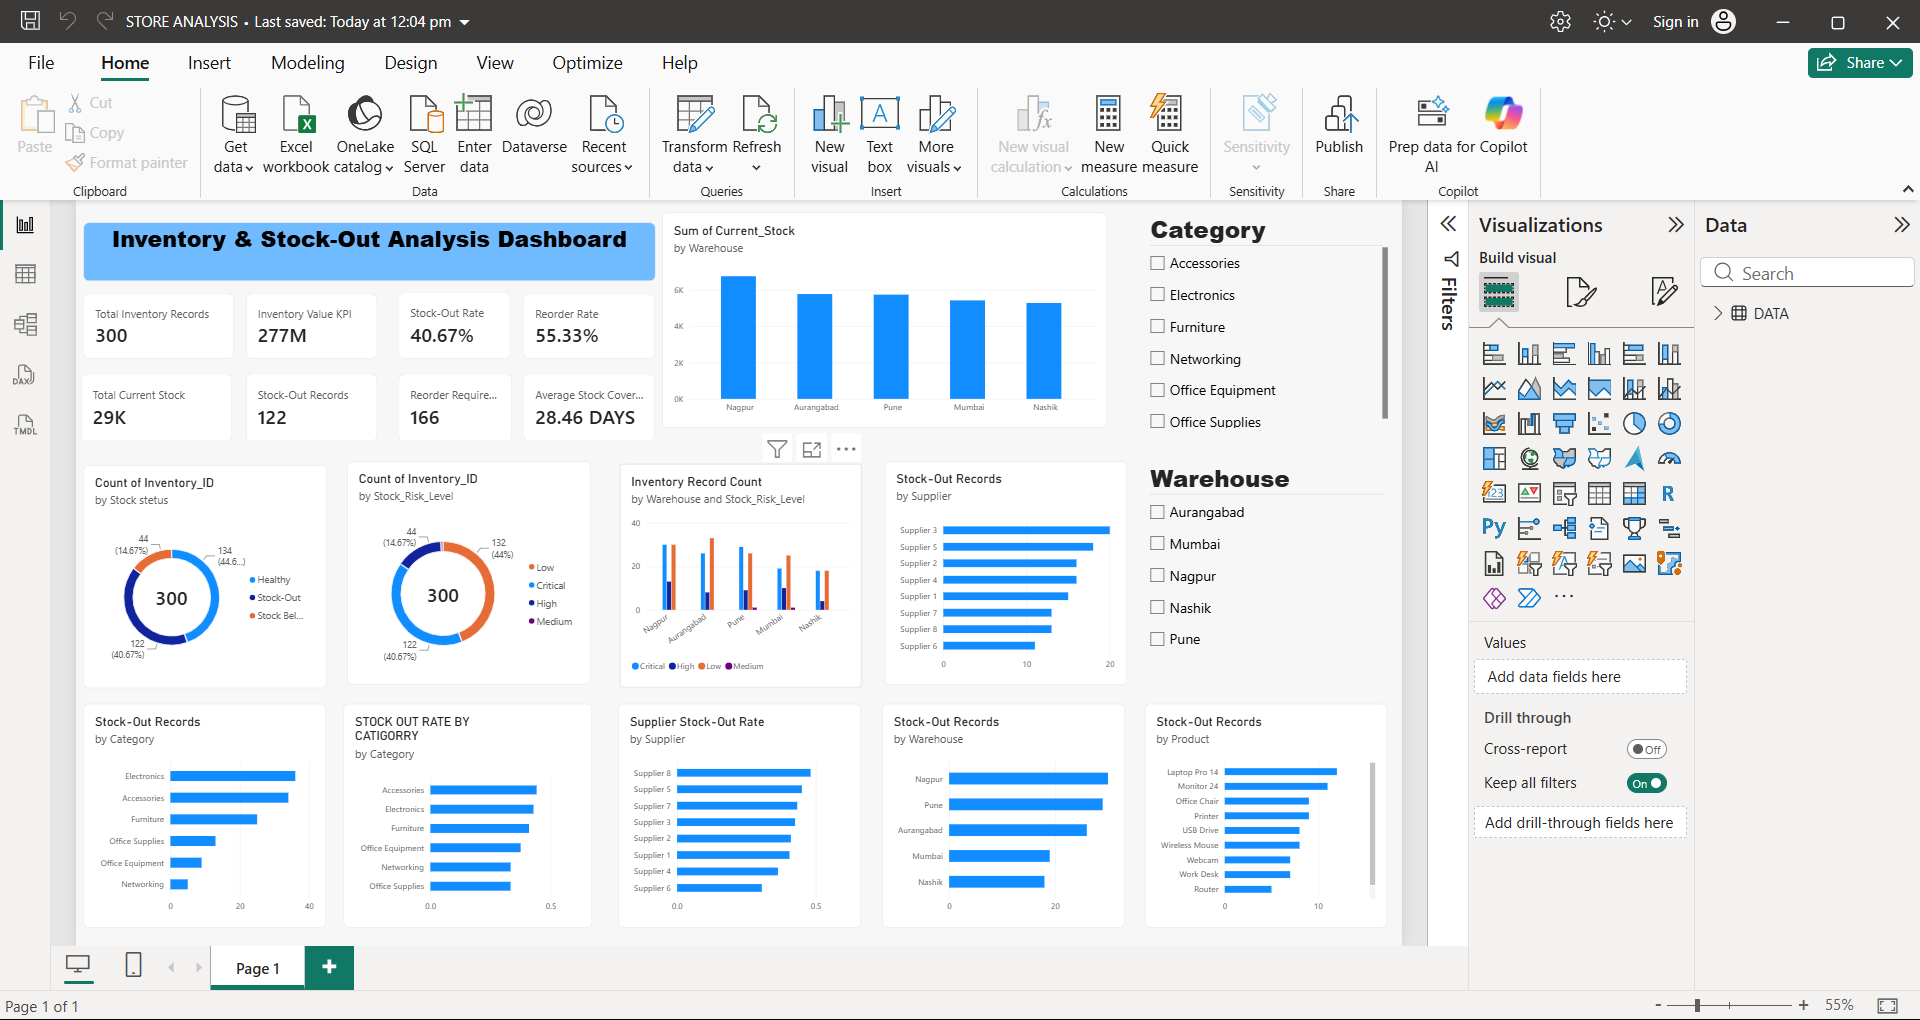

The dashboard page shown, as its layout file describes it:
{"tool":"powerbi","page":{"name":"Page 1","canvas":[1920,1080],"ordinal":0},"visuals":[{"type":"cardVisual","fields":{"Data":["DATA.Total Inventory Records"]},"box":[10,136,218,94],"z":0},{"type":"cardVisual","fields":{"Data":["DATA.Total Current Stock"]},"box":[8,252,218,98],"z":1000},{"type":"cardVisual","fields":{"Data":["DATA.Inventory Value KPI"]},"box":[246,136,190,94],"z":2000},{"type":"cardVisual","fields":{"Data":["DATA.Stock-Out Records"]},"box":[246,252,190,98],"z":3000},{"type":"cardVisual","fields":{"Data":["DATA.Stock-Out Rate"]},"box":[466,134,162,96],"z":4000},{"type":"cardVisual","fields":{"Data":["DATA.Reorder Required KPI"]},"box":[466,252,164,98],"z":5000},{"type":"cardVisual","fields":{"Data":["DATA.Reorder Rate"]},"box":[648,136,190,94],"z":6000},{"type":"cardVisual","fields":{"Data":["DATA.Average Stock Coverage Days"]},"box":[648,252,190,98],"z":7000},{"type":"clusteredBarChart","fields":{"Category":["DATA.Category"],"Y":["DATA.Stock-Out Records"]},"box":[10,730,350.9,323.6],"z":8000},{"type":"clusteredBarChart","fields":{"Category":["DATA.Category"],"Y":["DATA.STOCK OUT RATE BY CATIGORRY"]},"box":[387.5,730,360,324],"z":9000},{"type":"clusteredBarChart","fields":{"Category":["DATA.Warehouse"],"Y":["DATA.Stock-Out Records"]},"box":[1168,730,351,324],"z":10000},{"type":"clusteredBarChart","fields":{"Category":["DATA.Product"],"Y":["DATA.Stock-Out Records"]},"box":[1548,730,351,324],"z":11000},{"type":"donutChart","fields":{"Category":["DATA.Stock stetus"],"Y":["CountNonNull(DATA.Inventory_ID)"]},"box":[10,384,351.7,323.3],"z":12000},{"type":"columnChart","fields":{"Category":["DATA.Warehouse"],"Y":["Sum(DATA.Current_Stock)"]},"box":[848,18,644,312],"z":13000},{"type":"clusteredBarChart","fields":{"Category":["DATA.Supplier"],"Y":["DATA.Stock-Out Records"]},"box":[1170,378,350,324],"z":14000},{"type":"clusteredBarChart","fields":{"Category":["DATA.Supplier"],"Y":["DATA.Supplier Stock-Out Rate"]},"box":[786,730,350.9,323.6],"z":15000},{"type":"donutChart","fields":{"Category":["DATA.Stock_Risk_Level"],"Y":["CountNonNull(DATA.Inventory_ID)"]},"box":[392,378,351.7,323.3],"z":15001},{"type":"clusteredColumnChart","fields":{"Category":["DATA.Warehouse"],"Series":["DATA.Stock_Risk_Level"],"Y":["DATA.Inventory Record Count"]},"box":[788,382,350.9,323.6],"z":15002},{"type":"slicer","fields":{"Values":["DATA.Warehouse"]},"box":[1548,378,352,324],"z":15003},{"type":"slicer","fields":{"Values":["DATA.Category"]},"box":[1548,18,352,312],"z":15004},{"type":"textbox","box":[10,32,828,85],"z":15005}]}

Visuals, with their boxes on the page's 1920x1080 design canvas (x1, y1, x2, y2). These are canvas units, not pixel positions in the 1920x1020 screenshot, which may show the page scaled, cropped or inside an application window:
cardVisual - DATA.Total Inventory Records: x1=10, y1=136, x2=228, y2=230
cardVisual - DATA.Total Current Stock: x1=8, y1=252, x2=226, y2=350
cardVisual - DATA.Inventory Value KPI: x1=246, y1=136, x2=436, y2=230
cardVisual - DATA.Stock-Out Records: x1=246, y1=252, x2=436, y2=350
cardVisual - DATA.Stock-Out Rate: x1=466, y1=134, x2=628, y2=230
cardVisual - DATA.Reorder Required KPI: x1=466, y1=252, x2=630, y2=350
cardVisual - DATA.Reorder Rate: x1=648, y1=136, x2=838, y2=230
cardVisual - DATA.Average Stock Coverage Days: x1=648, y1=252, x2=838, y2=350
clusteredBarChart - DATA.Category x DATA.Stock-Out Records: x1=10, y1=730, x2=361, y2=1054
clusteredBarChart - DATA.Category x DATA.STOCK OUT RATE BY CATIGORRY: x1=388, y1=730, x2=748, y2=1054
clusteredBarChart - DATA.Warehouse x DATA.Stock-Out Records: x1=1168, y1=730, x2=1519, y2=1054
clusteredBarChart - DATA.Product x DATA.Stock-Out Records: x1=1548, y1=730, x2=1899, y2=1054
donutChart - DATA.Stock stetus x CountNonNull(DATA.Inventory_ID): x1=10, y1=384, x2=362, y2=707
columnChart - DATA.Warehouse x Sum(DATA.Current_Stock): x1=848, y1=18, x2=1492, y2=330
clusteredBarChart - DATA.Supplier x DATA.Stock-Out Records: x1=1170, y1=378, x2=1520, y2=702
clusteredBarChart - DATA.Supplier x DATA.Supplier Stock-Out Rate: x1=786, y1=730, x2=1137, y2=1054
donutChart - DATA.Stock_Risk_Level x CountNonNull(DATA.Inventory_ID): x1=392, y1=378, x2=744, y2=701
clusteredColumnChart - DATA.Warehouse x DATA.Stock_Risk_Level: x1=788, y1=382, x2=1139, y2=706
slicer - DATA.Warehouse: x1=1548, y1=378, x2=1900, y2=702
slicer - DATA.Category: x1=1548, y1=18, x2=1900, y2=330
textbox: x1=10, y1=32, x2=838, y2=117
